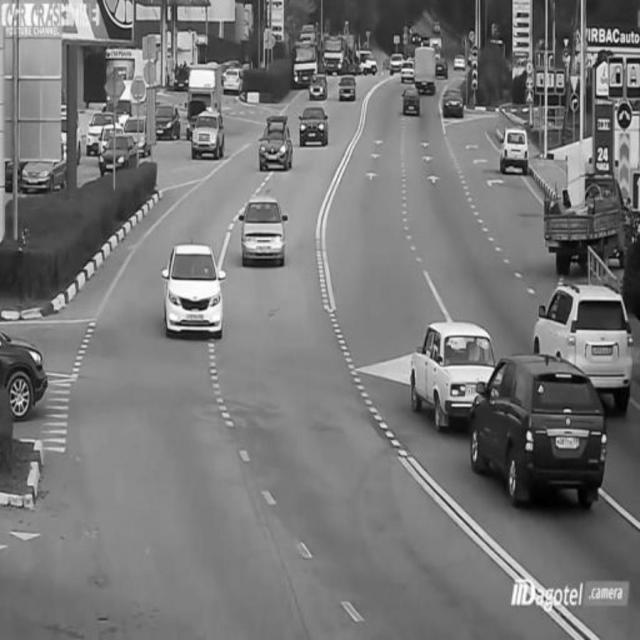vehicle: (475, 352, 613, 506), (540, 280, 640, 400), (547, 167, 640, 270), (411, 321, 481, 431), (163, 245, 225, 335), (0, 320, 48, 419), (242, 197, 288, 265), (259, 116, 293, 177), (295, 104, 335, 150), (290, 34, 320, 95), (497, 124, 533, 174), (103, 126, 137, 178), (193, 108, 225, 162), (414, 44, 441, 94), (441, 82, 465, 116), (339, 70, 359, 102), (310, 70, 330, 100), (401, 87, 419, 117), (398, 53, 416, 81), (386, 50, 404, 77), (450, 50, 467, 70)
